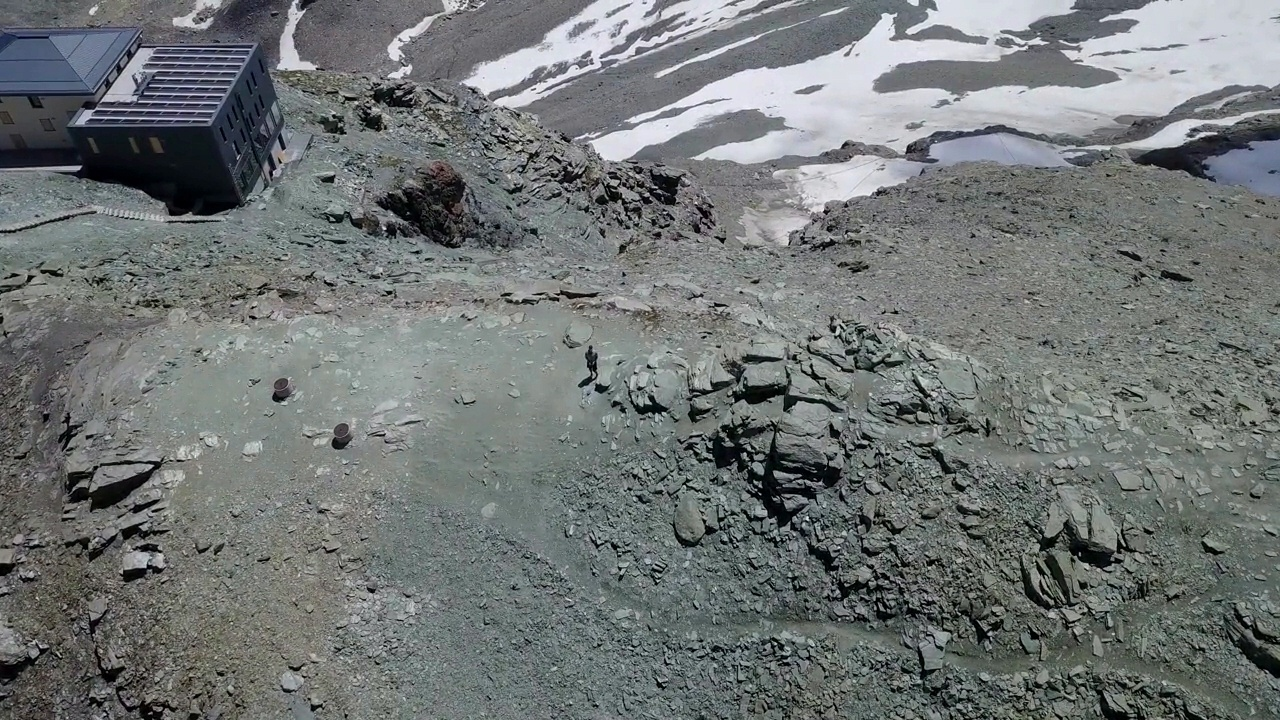insan: (580, 341, 604, 383)
